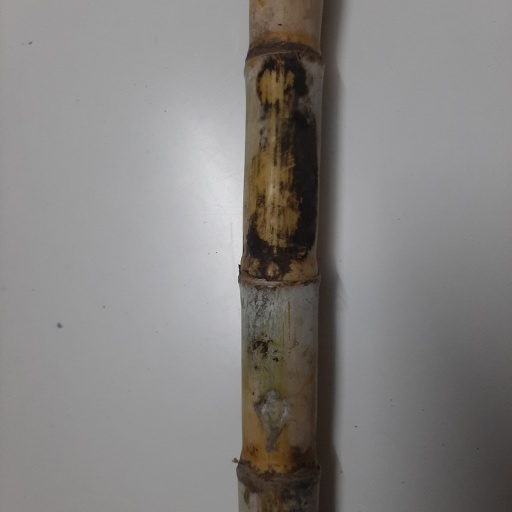Bud: (264, 260, 281, 283)
